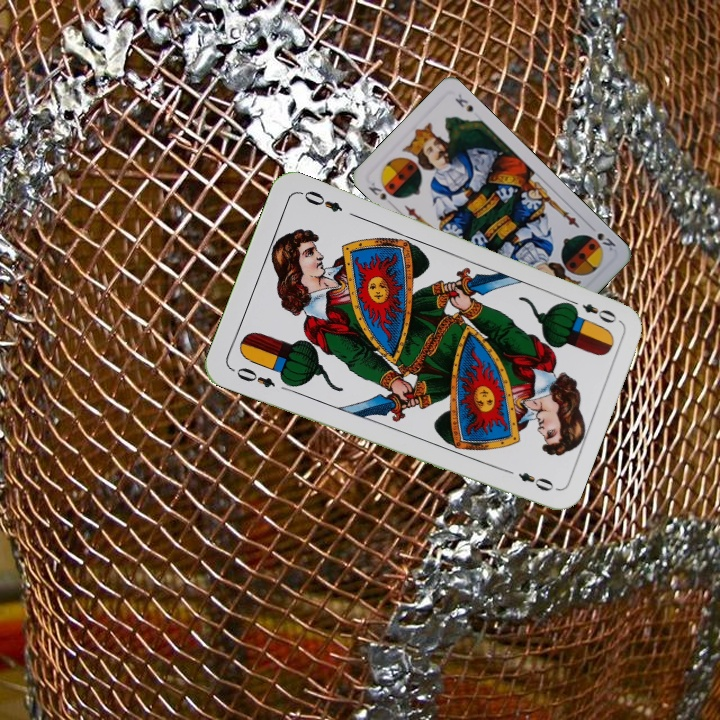EO: (564, 295, 620, 326), (232, 363, 278, 391)
SK: (585, 221, 618, 253), (364, 178, 391, 204)
